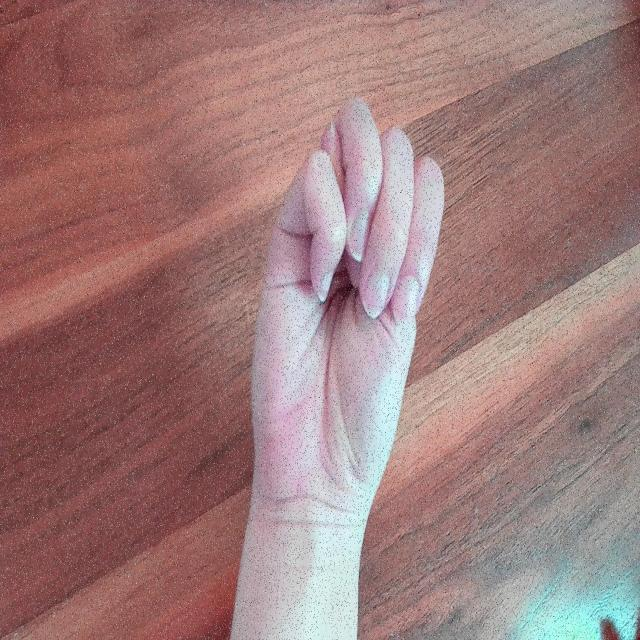M: (245, 93, 448, 545)
